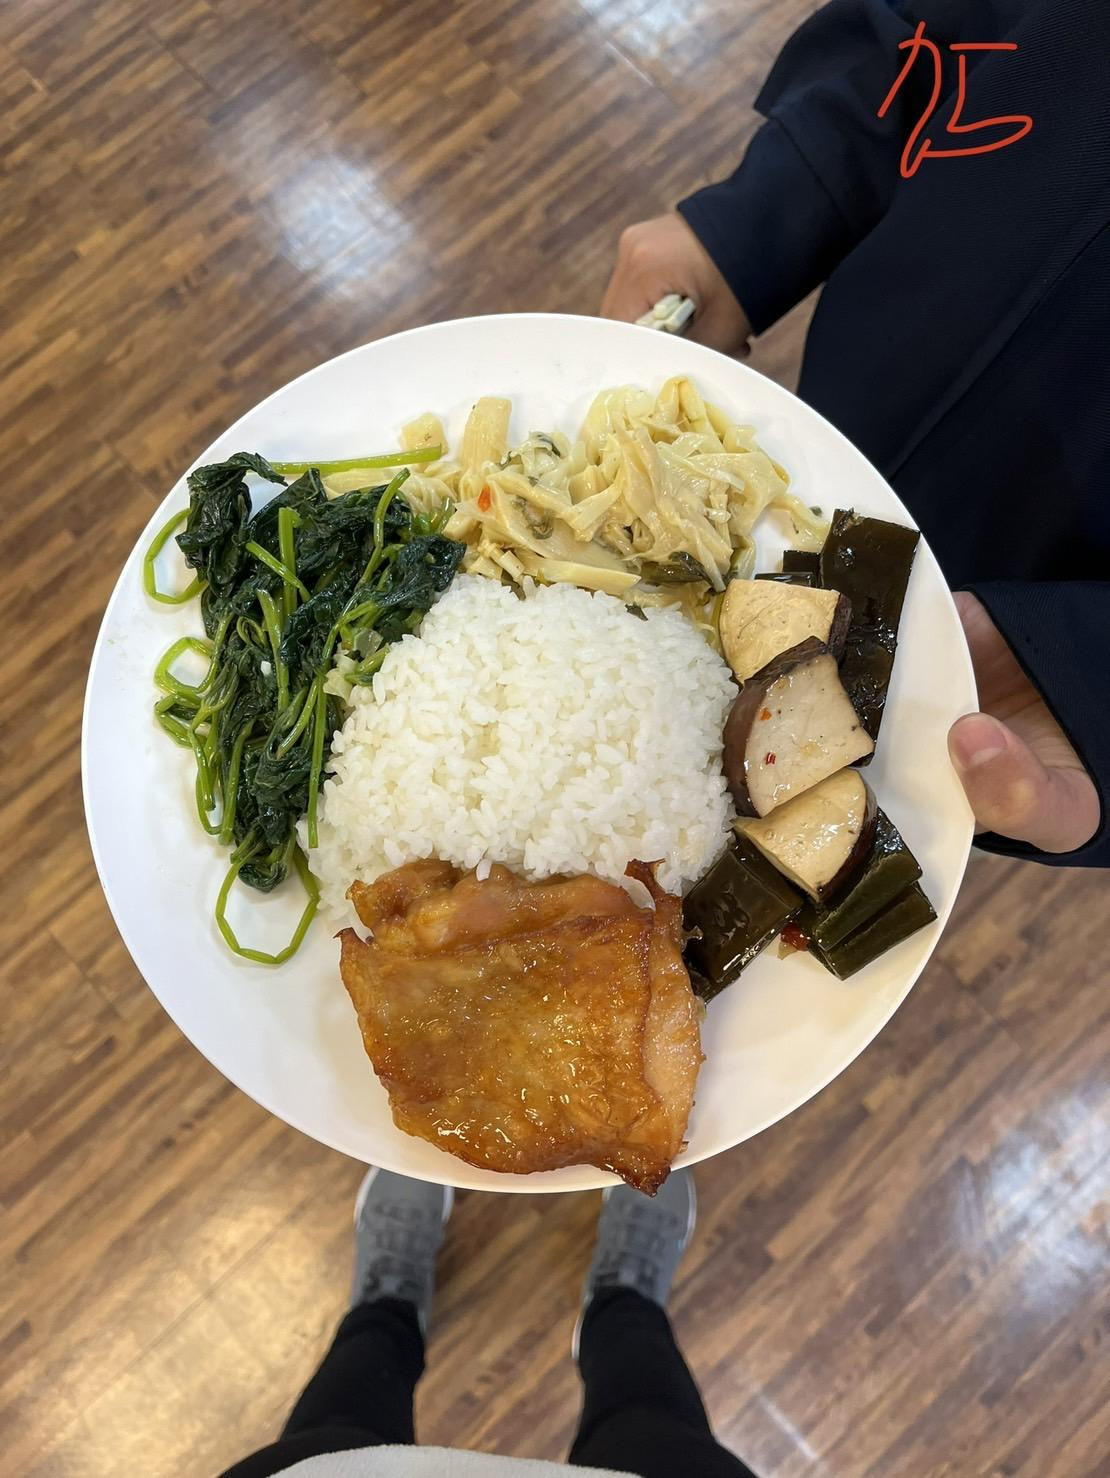big fried chicken leg: (44, 317, 1009, 1183)
braised fish fillet: (150, 457, 457, 943), (673, 501, 934, 1005), (401, 377, 783, 583)
braised pork: (329, 864, 707, 1191)
